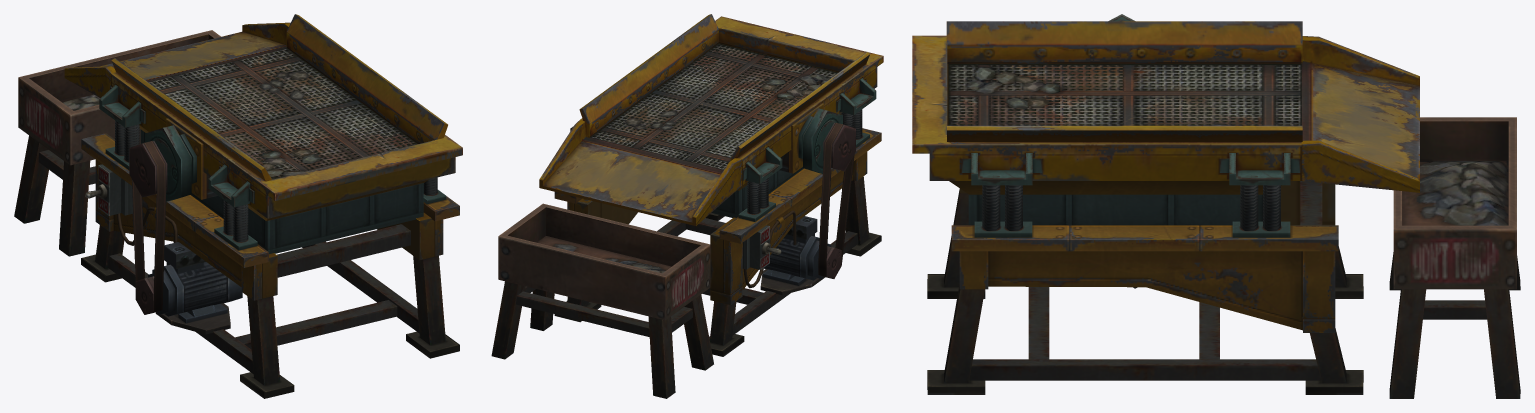
The model's file is ScreenMachine.FBX.
The picture shows the model from 3 angles, left to right: view 1: azimuth 30°, elevation 25°; view 2: azimuth 150°, elevation 25°; view 3: azimuth 270°, elevation 25°; orthographic projection. The views are drawn at different scales.
Visible parts, largest first — view 1: Box001; view 2: Box001; view 3: Box001.
Boxes of the visible parts, x1,y1,x2,y2 form: Box001: (14, 14, 462, 398); Box001: (491, 14, 883, 398); Box001: (912, 14, 1520, 398).
Size of the model in its own units: 1.91 by 1.64 by 3.42.
1 material, 1 textured.
